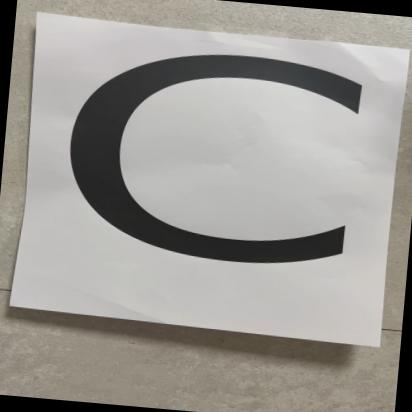seat: (12, 14, 408, 342)
